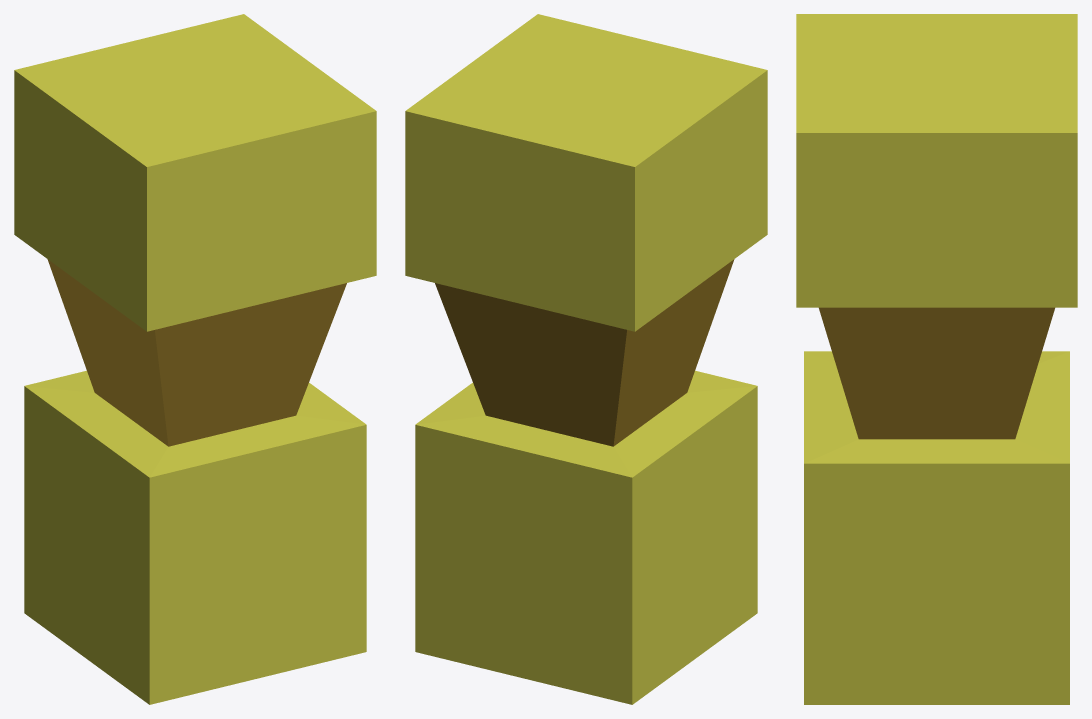
Rendered from desertpillar1.fbx.
3 renders of one model, left to right at view 1: azimuth 30°, elevation 25°; view 2: azimuth 150°, elevation 25°; view 3: azimuth 270°, elevation 25°, orthographic. The views are drawn at different scales.
Visible parts, largest first — view 1: Cube; view 2: Cube; view 3: Cube.
Part boxes in pixels (left/top/right/bottom): Cube: left=14, top=14, right=376, bottom=704; Cube: left=405, top=14, right=767, bottom=704; Cube: left=796, top=14, right=1077, bottom=704.
Bounding box in the file's own units: 212 × 477 × 212.
